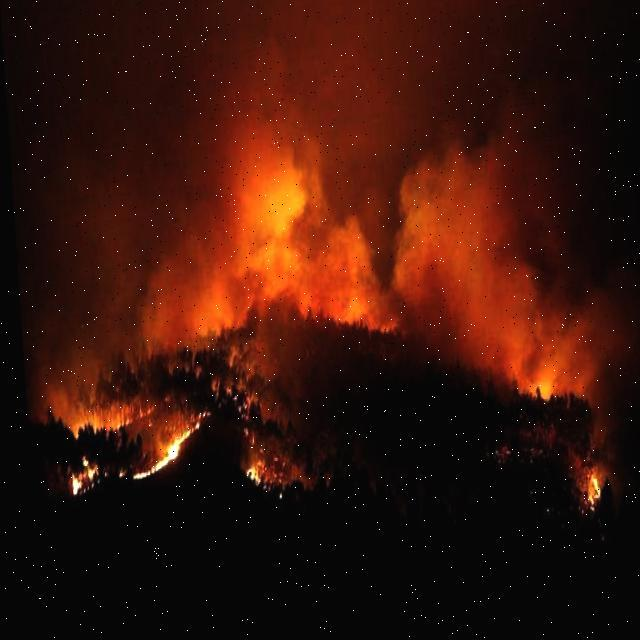Fire: (53, 384, 151, 437), (123, 426, 193, 482), (56, 452, 96, 512), (236, 448, 270, 497), (576, 476, 596, 524)
